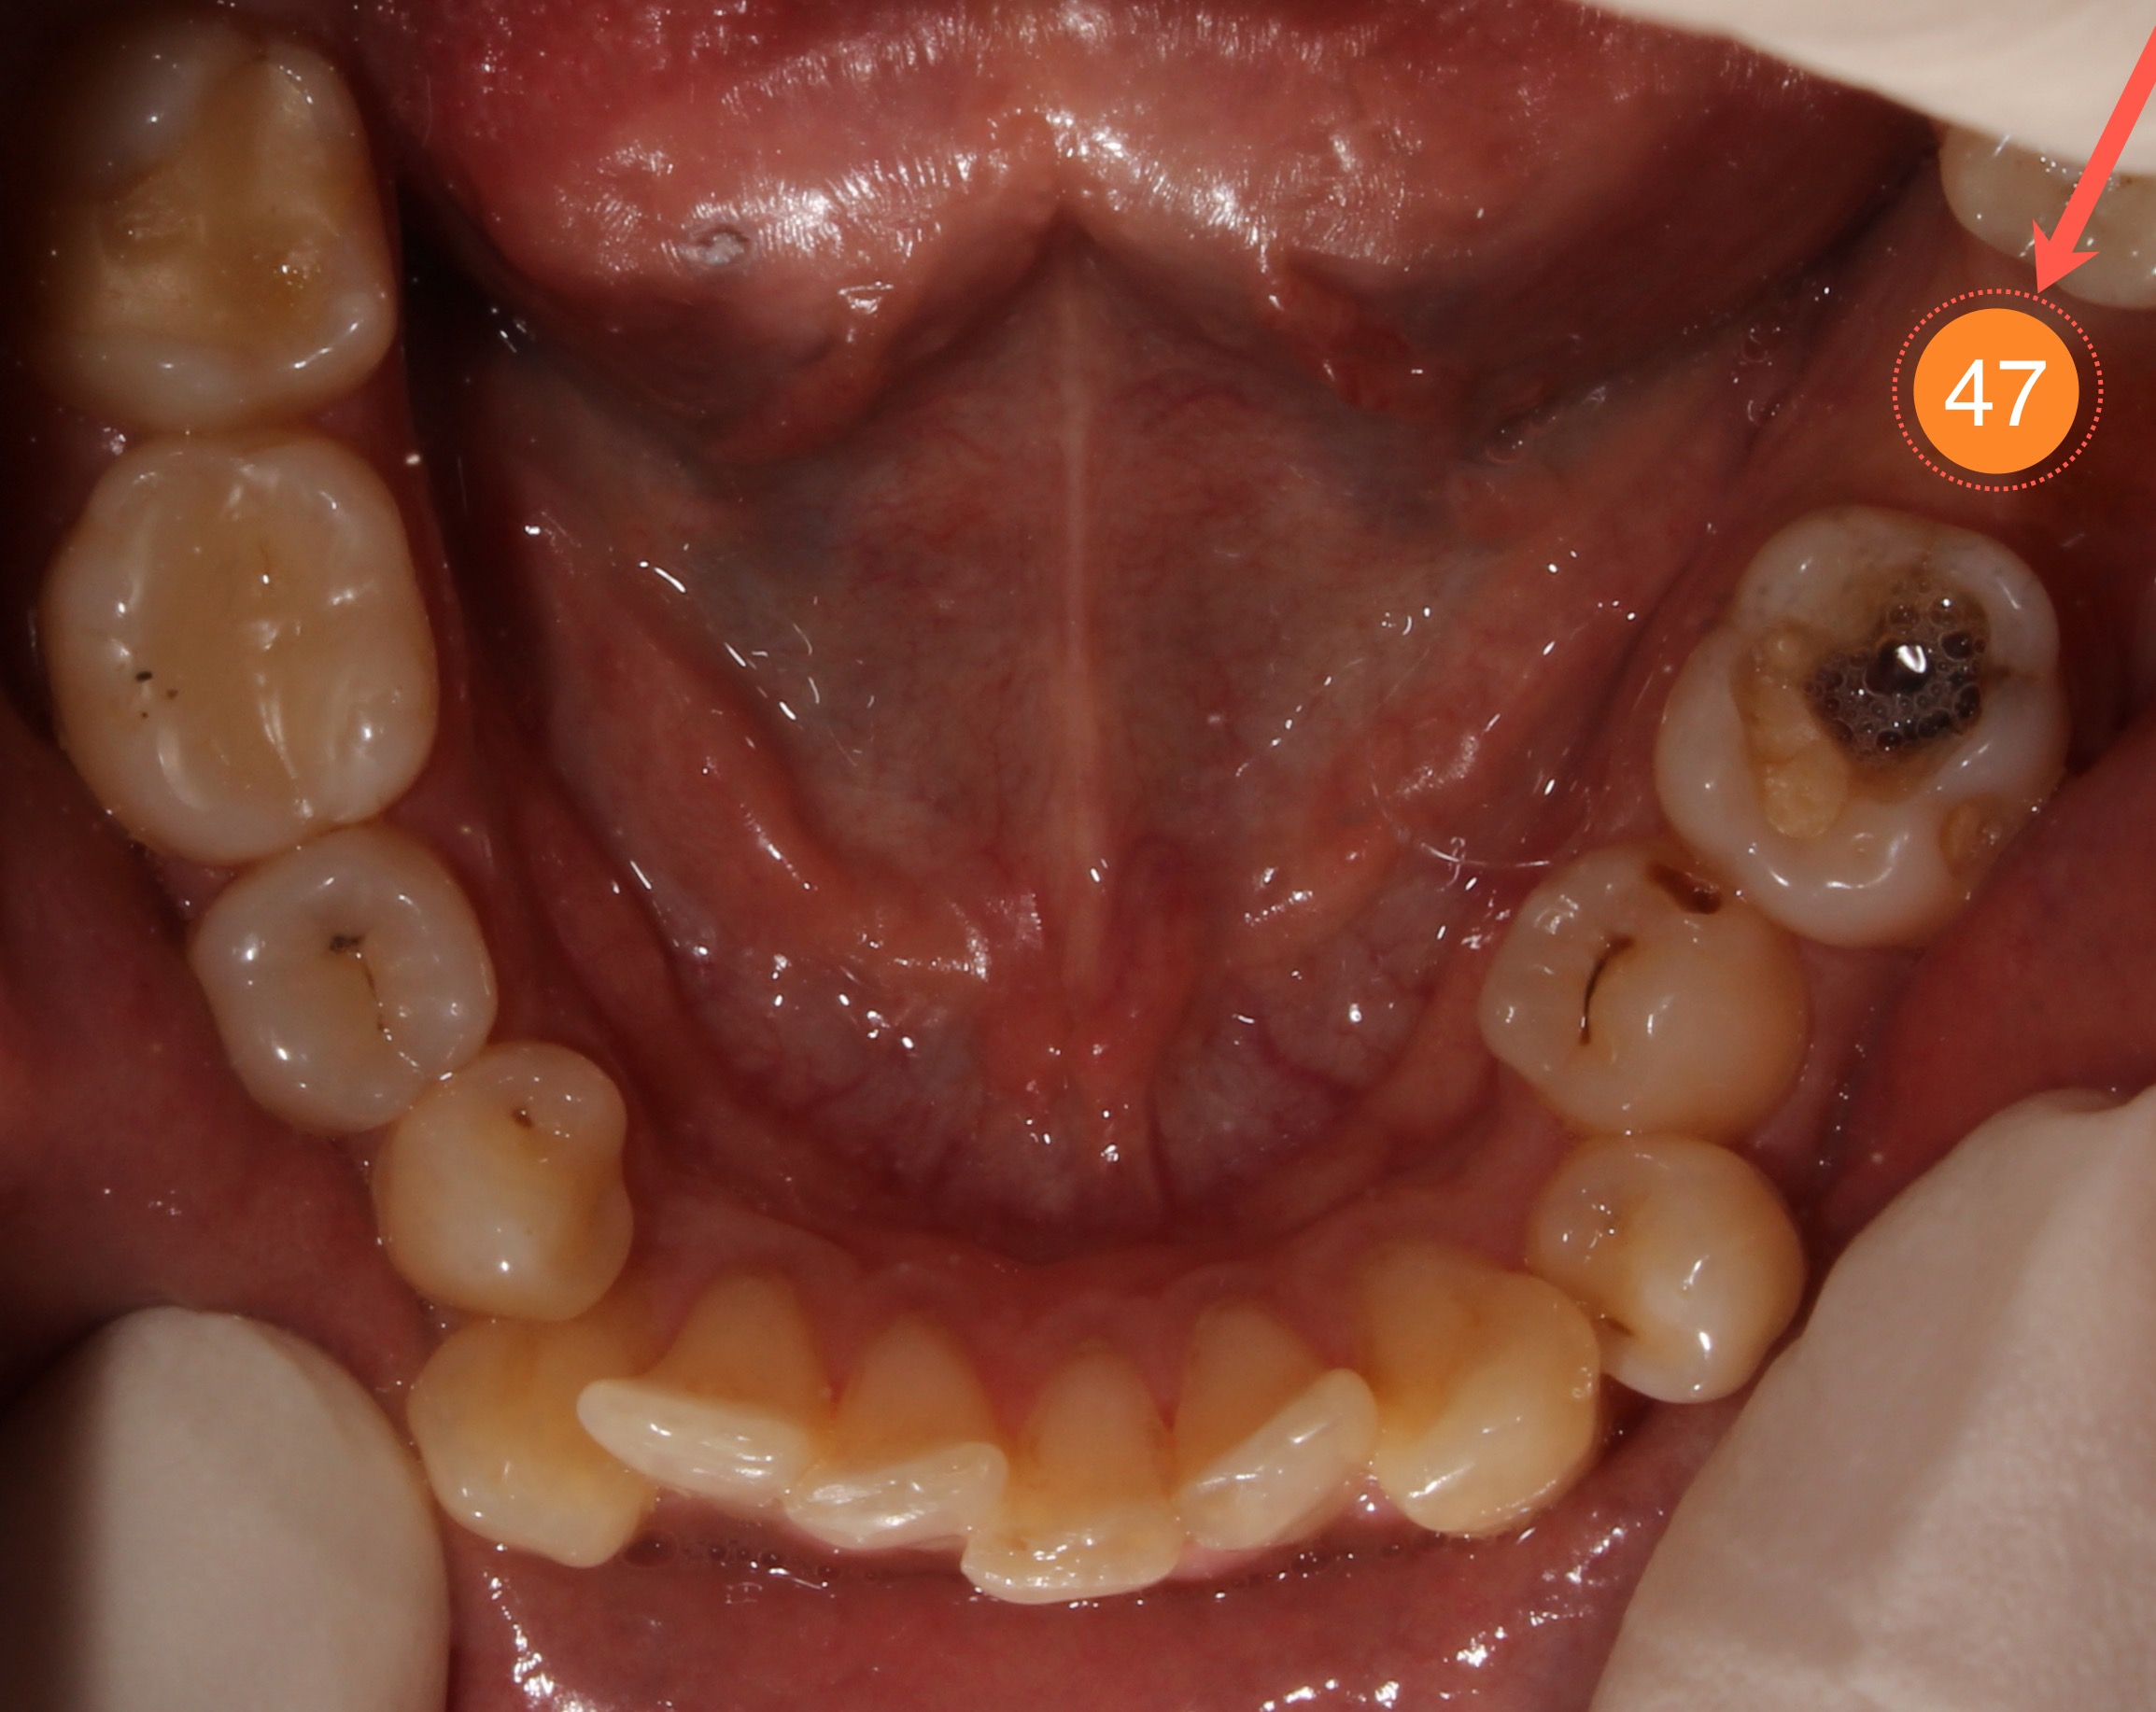LL1BC_decay: (1570, 1144, 1803, 1395)
LL1M_decay: (1678, 528, 2060, 922)
LL2BC_decay: (1491, 862, 1790, 1133)
LLCI_healthy: (1012, 1359, 1171, 1598)
LLC_healthy: (1368, 1261, 1594, 1530)
LLLI_healthy: (1181, 1324, 1370, 1549)
LR1BC_decay: (403, 1046, 623, 1312)
LR1M_decay: (75, 448, 429, 818)
LR2BC_decay: (214, 845, 490, 1105)
LR2M_decay: (75, 87, 381, 404)
LRCI_healthy: (819, 1341, 999, 1553)
LRC_healthy: (418, 1315, 642, 1565)
LRLI_healthy: (639, 1261, 817, 1509)
